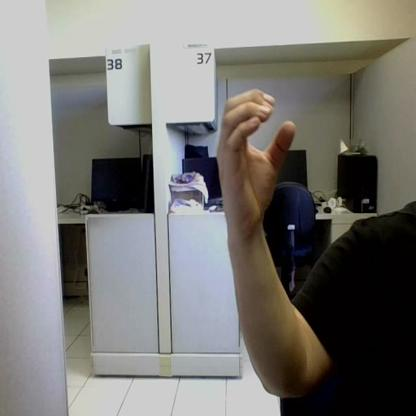C: (218, 89, 296, 226)
